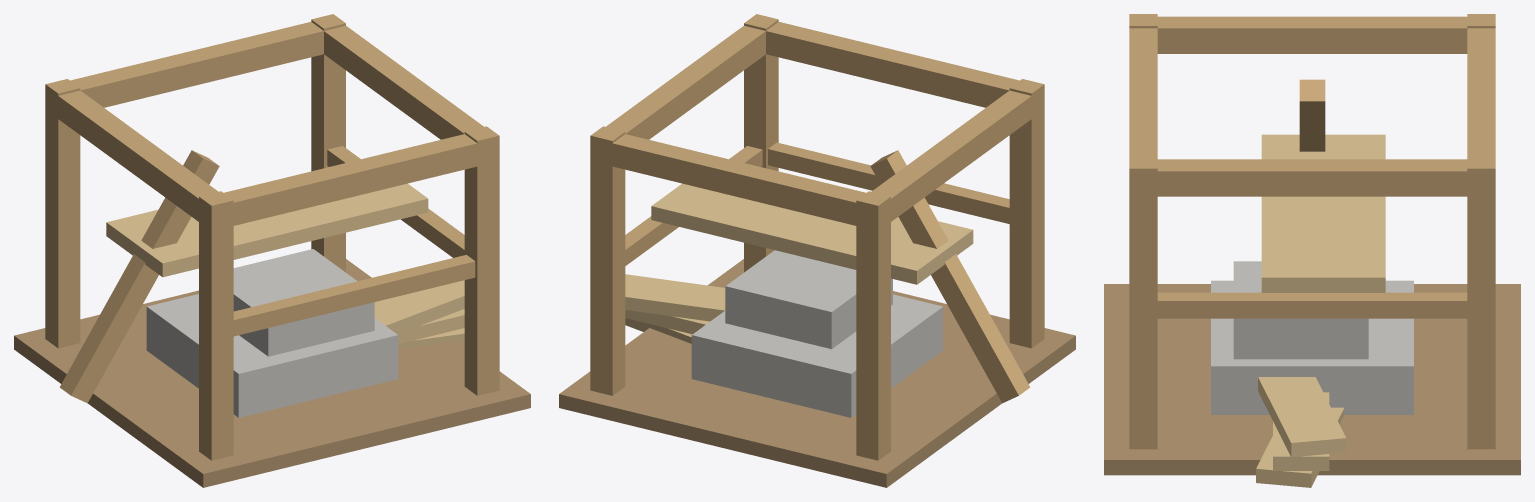
Rendered from construction.glb.
The picture shows the model from 3 angles, left to right: view 1: azimuth 30°, elevation 25°; view 2: azimuth 150°, elevation 25°; view 3: azimuth 270°, elevation 25°; orthographic projection. The views are drawn at different scales.
Visible parts, largest first — view 1: ground, footing, deck, beam_s, post0, post1, beam_n, post2, footing2, brace, beam_w, rail_s (+6 smaller); view 2: ground, footing, deck, footing2, beam_n, post3, post2, post0, beam_s, brace, beam_w, beam_e (+5 smaller); view 3: ground, deck, beam_e, footing, beam_w, post3, post1, rail_e, footing2, stack2, beam_s, beam_n (+3 smaller).
Boxes of the visible parts, x1,y1,x2,y2 form: ground: (14,259,530,487); footing: (146,294,398,417); deck: (106,183,428,277); beam_s: (211,134,493,231); post0: (199,191,233,460); post1: (464,126,499,395); beam_n: (70,22,323,107); post2: (45,79,80,348); footing2: (233,249,374,356); brace: (59,150,219,403); beam_w: (45,86,218,227); rail_s: (233,255,475,336); ground: (559,259,1075,487); footing: (691,294,943,417); deck: (651,183,973,284); footing2: (725,250,892,349); beam_n: (590,134,878,231); post3: (590,126,625,395); post2: (856,191,890,460); post0: (1009,79,1044,348); beam_s: (766,22,1019,107); brace: (870,150,1030,403); beam_w: (871,90,1031,230); beam_e: (606,25,765,139); ground: (1104,284,1520,475); deck: (1261,134,1385,292); beam_e: (1129,159,1495,196); footing: (1211,280,1413,414); beam_w: (1157,16,1467,53); post3: (1467,156,1495,449); post1: (1129,156,1157,449); rail_e: (1157,292,1467,318); footing2: (1233,261,1368,359); stack2: (1258,377,1346,457); beam_s: (1129,28,1157,196); beam_n: (1467,28,1495,196).
Bounding box in the file's own units: 0.925 × 0.58 × 0.74.
